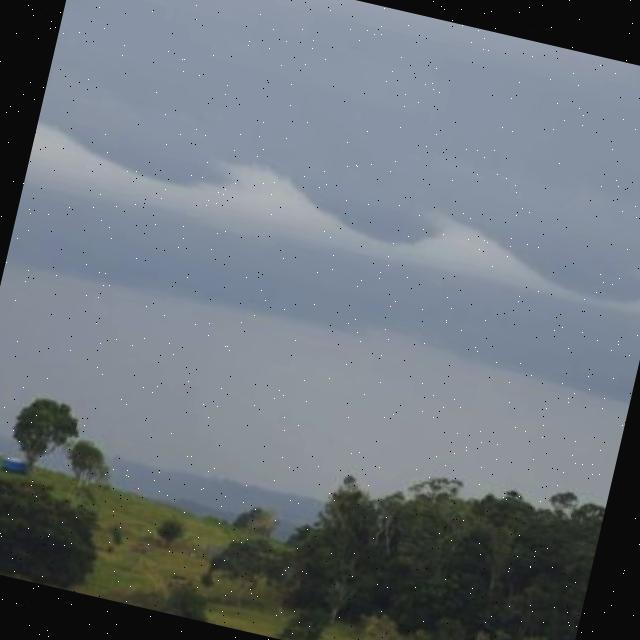Ns: (4, 1, 640, 413)
